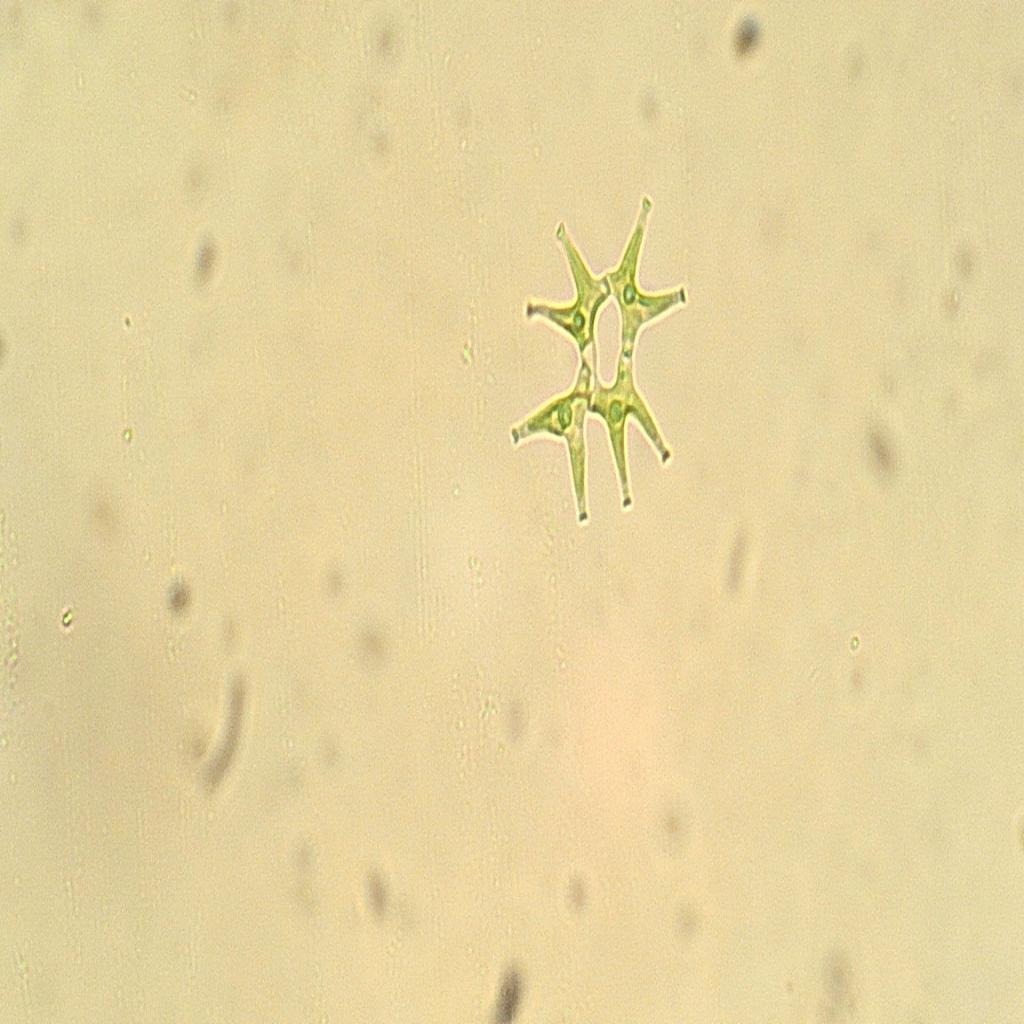Pediastrum_CT: (500, 163, 703, 541)
